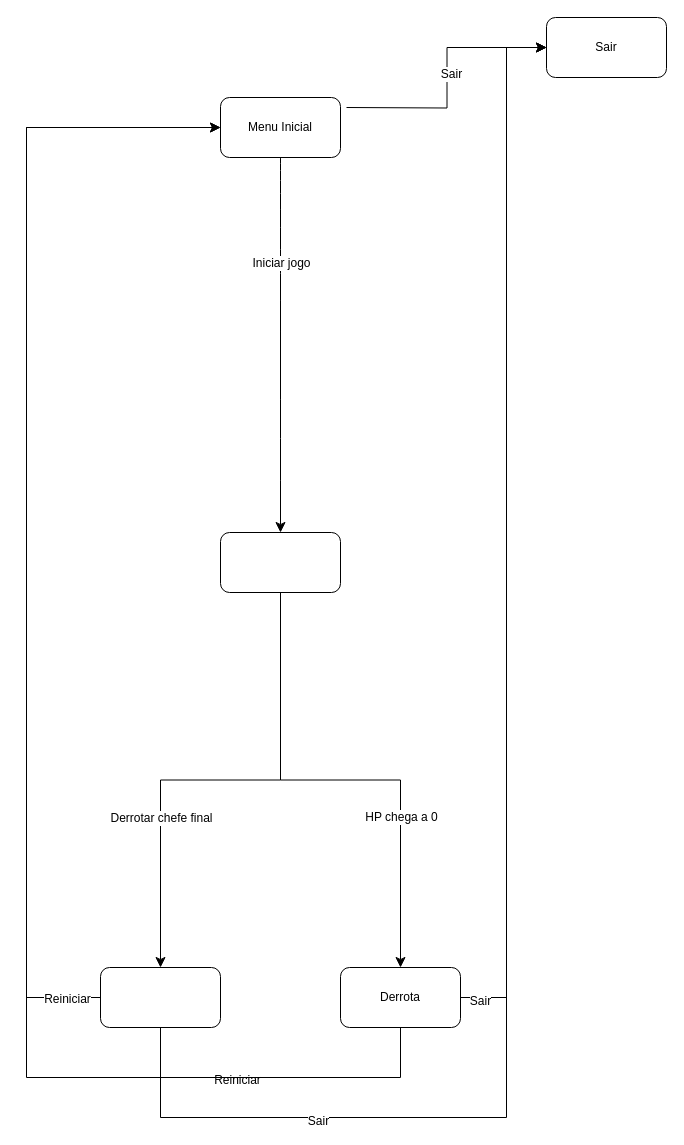
Image size: 684x1145. Some labels were removed from this diagram. The shapes that lost their labels are listed below. From the top down, each one's centre as x and y in pixels, then its label:
At (x=280, y=562): "Jogando".
At (x=160, y=997): "Vitória".
